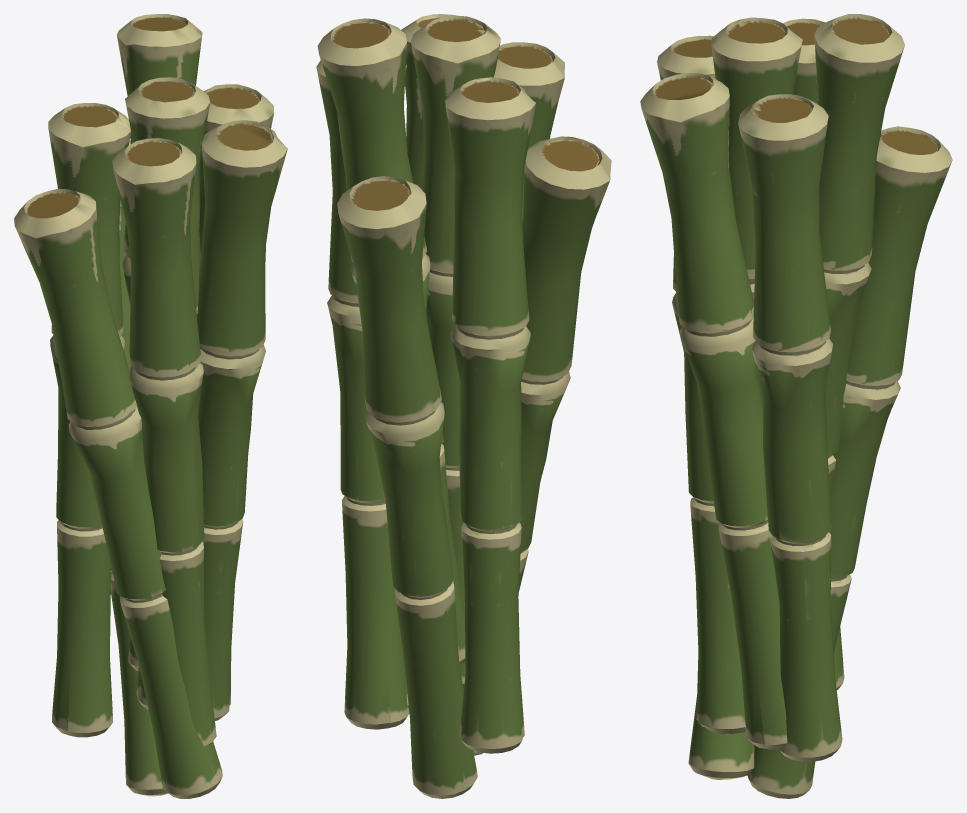
Rendered from Bamboo.fbx.
3 renders of one model, left to right at view 1: azimuth 30°, elevation 25°; view 2: azimuth 150°, elevation 25°; view 3: azimuth 270°, elevation 25°, orthographic. The views are drawn at different scales.
Parts seen in each view (by area): view 1: Cylinder.025; view 2: Cylinder.025; view 3: Cylinder.025.
Part boxes in pixels (x1,y1,x2,y2): Cylinder.025: (14,14,287,798); Cylinder.025: (316,14,611,798); Cylinder.025: (640,14,952,798).
Size of the model in its own units: 233 by 631 by 226.
